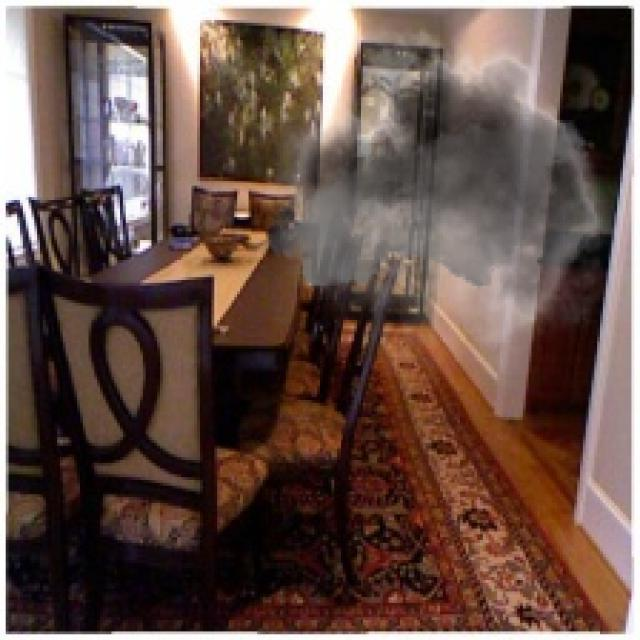smoke: (266, 9, 626, 388)
